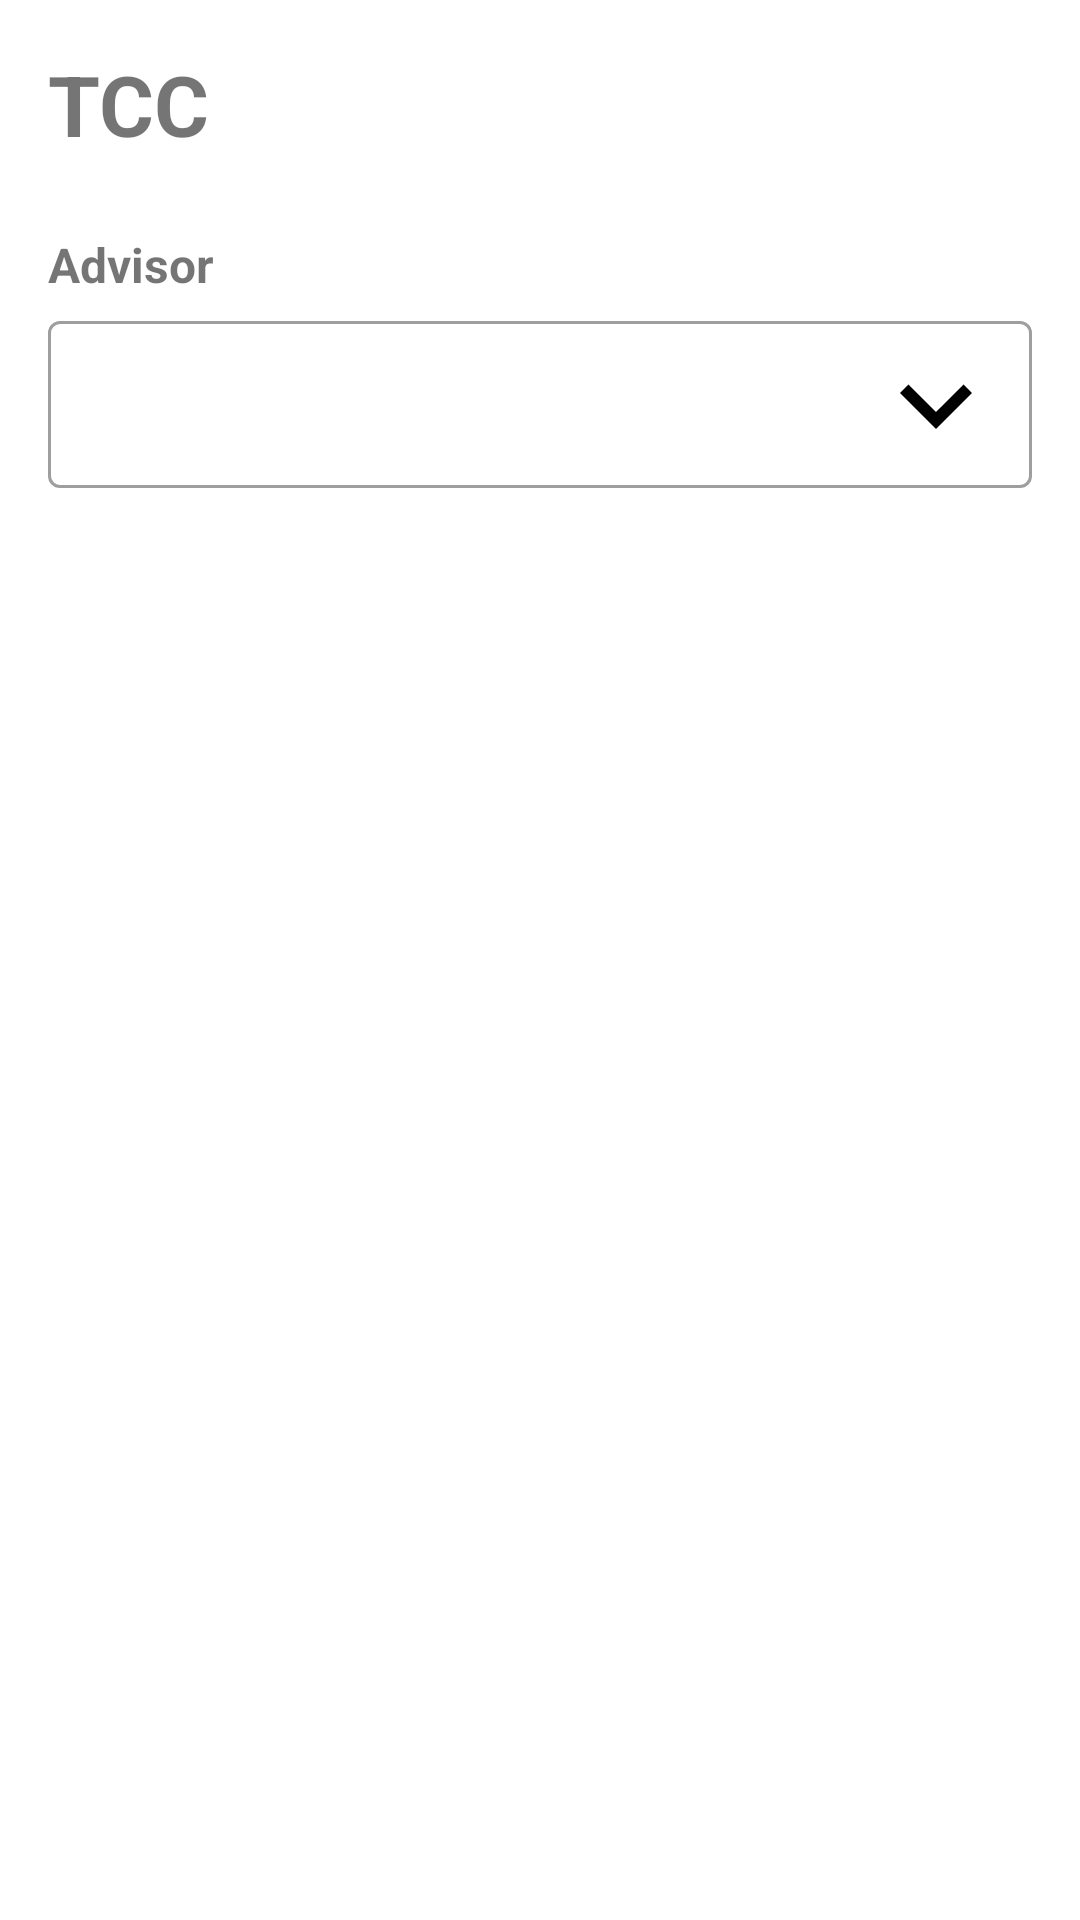

Icons on this 1080×1920 Android screen, each with its box as bbox=(x1, y1, x2, y2):
down: bbox=(900, 384, 972, 429)
